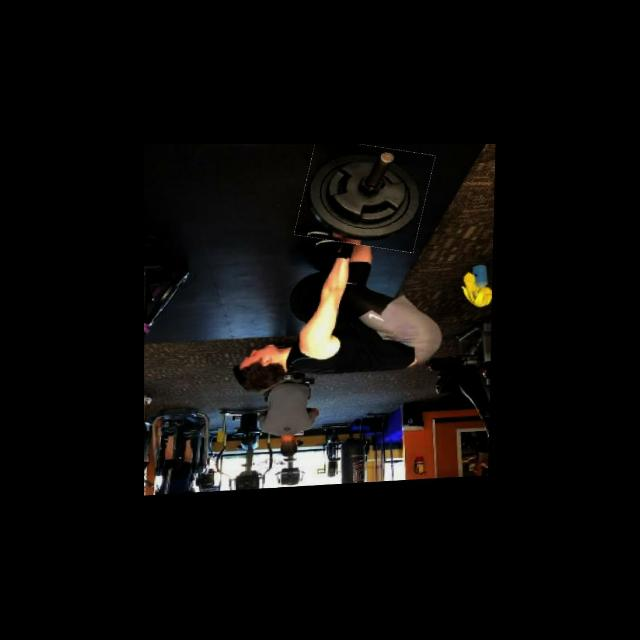barbell: (299, 144, 432, 256)
